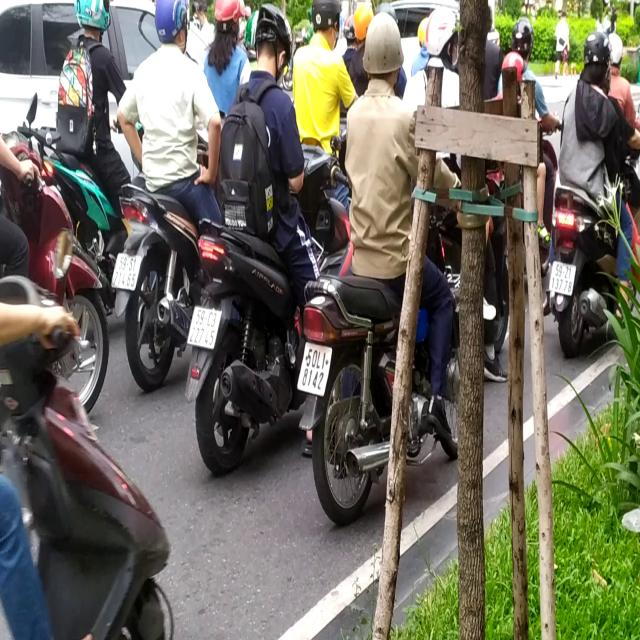bien_trang: (293, 340, 331, 403)
